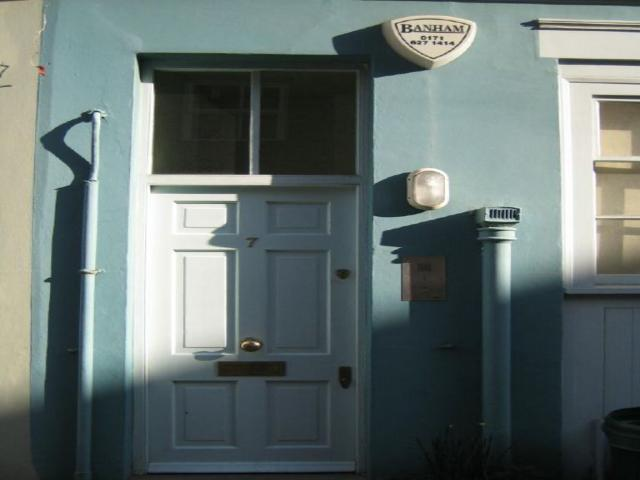Door-handle: (236, 337, 269, 355), (337, 363, 355, 391)
